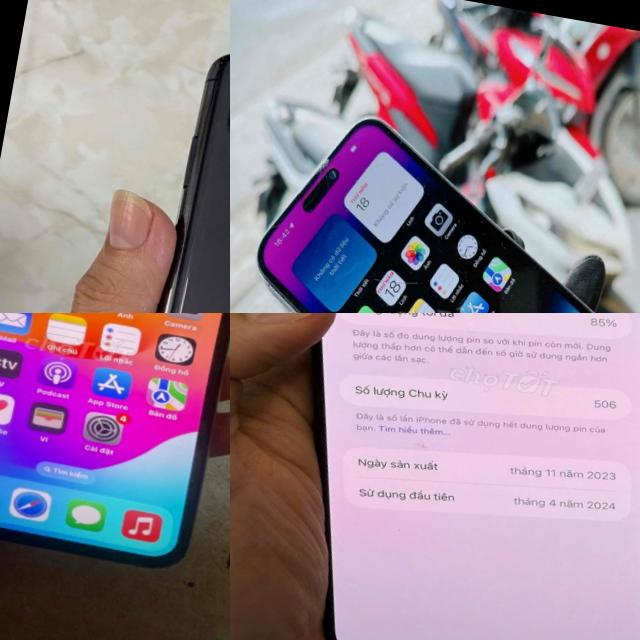gen_11: (0, 313, 230, 578)
gen_14: (230, 96, 640, 313)
gen_15: (230, 313, 640, 640)
gen_x_xs: (96, 19, 230, 313)
